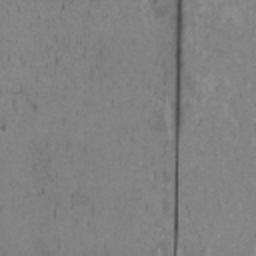Scratches: (173, 0, 184, 256)
